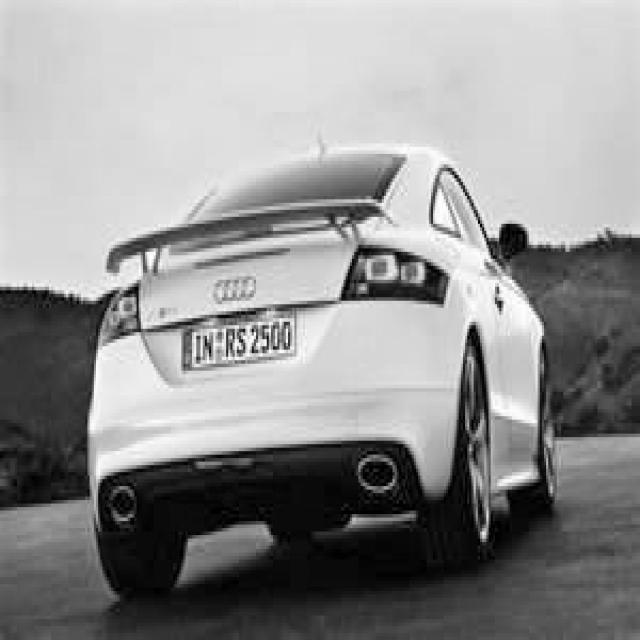car: (85, 136, 559, 598)
plat_license: (176, 320, 309, 376)
